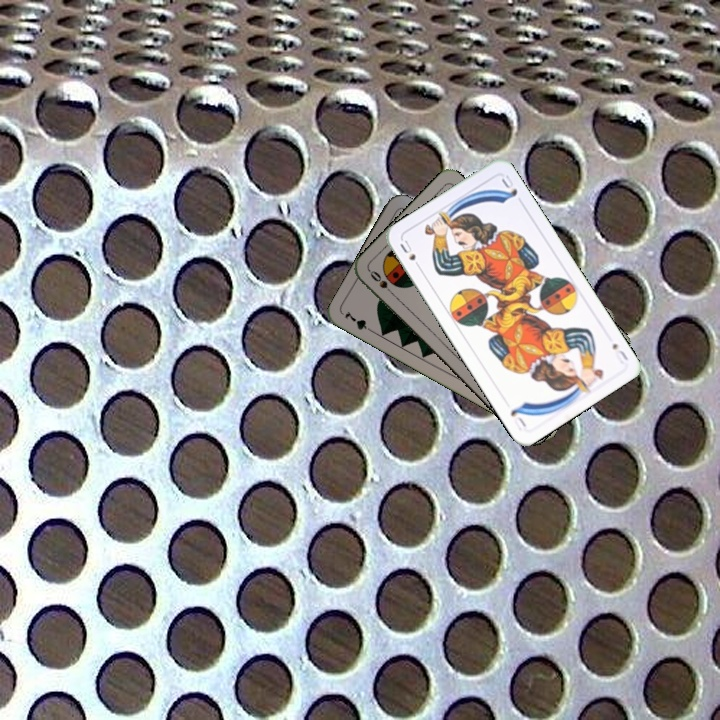G7: (340, 307, 377, 336)
SO: (366, 266, 398, 299)
SU: (396, 235, 424, 272), (608, 339, 631, 367)
